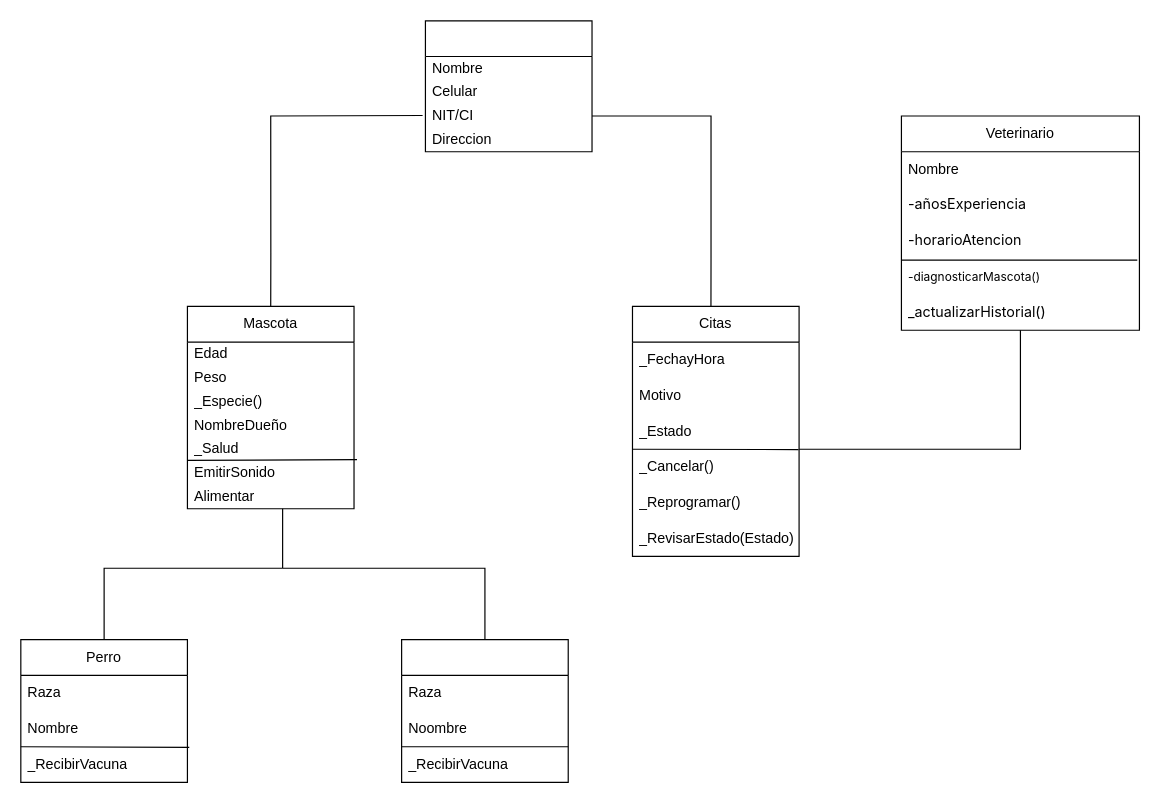
Image size: 1160x803. Some labels were removed from this diagram. The box of each missing label's shape, as (x1, y1, x2, y2) in pixels:
Dueño: (424, 20, 592, 152)
Gato: (400, 638, 568, 782)
